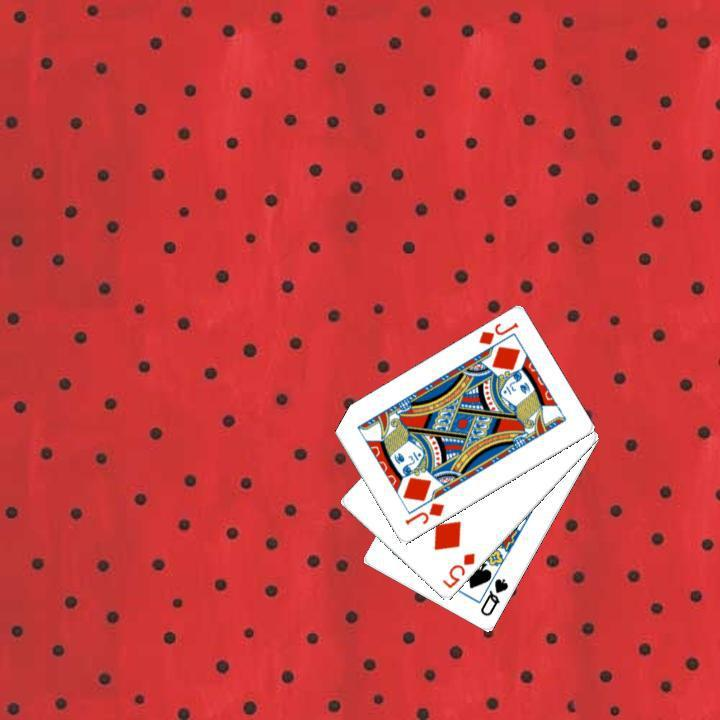5: (438, 549, 477, 591)
J: (400, 498, 446, 528), (474, 318, 520, 347)
Q: (476, 574, 510, 619)
